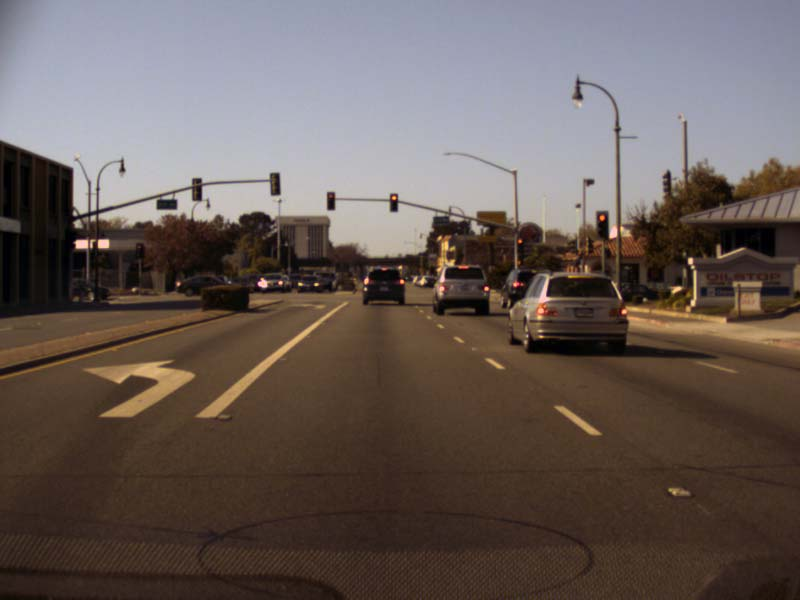Red: (595, 211, 610, 241), (326, 192, 335, 209), (517, 236, 524, 254), (390, 194, 397, 211), (135, 243, 142, 258)
Yellow: (517, 256, 524, 269)
